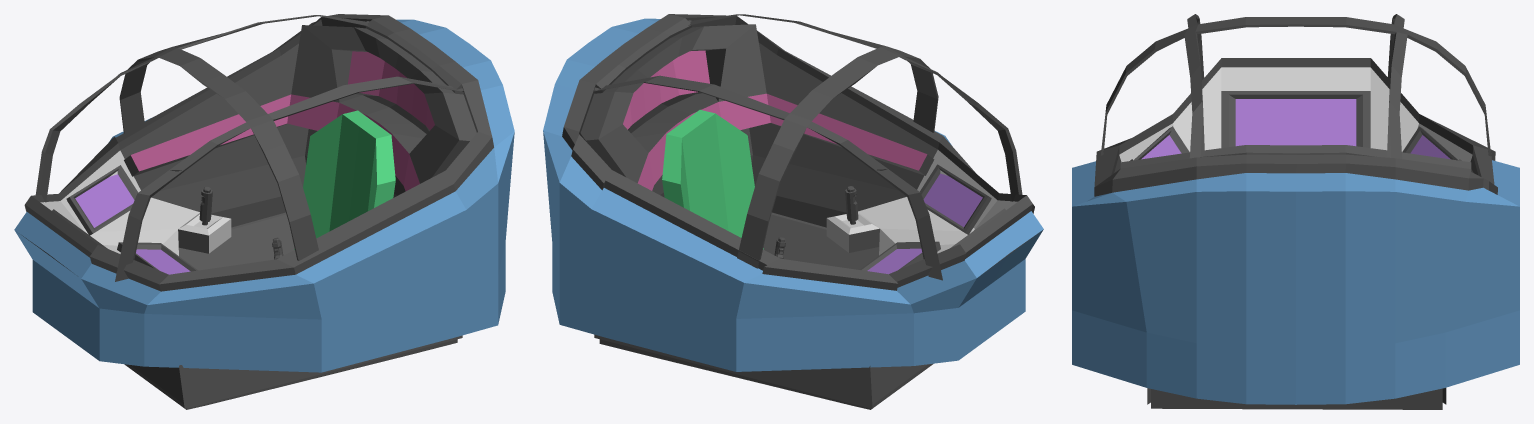
The model's file is Spaceship.fbx.
3 renders of one model, left to right at view 1: azimuth 30°, elevation 25°; view 2: azimuth 150°, elevation 25°; view 3: azimuth 270°, elevation 25°, orthographic. The views are drawn at different scales.
Visible parts, largest first — view 1: Cube.001, Cube; view 2: Cube.001, Cube; view 3: Cube.001, Cube.
Boxes of the visible parts, bbox=[...] form: Cube.001: bbox=[14, 14, 514, 372]; Cube: bbox=[124, 212, 462, 409]; Cube.001: bbox=[543, 14, 1043, 371]; Cube: bbox=[594, 212, 933, 409]; Cube.001: bbox=[1072, 14, 1519, 404]; Cube: bbox=[1147, 388, 1446, 409].
Bounding box in the file's own units: 1455 × 931 × 1200.
